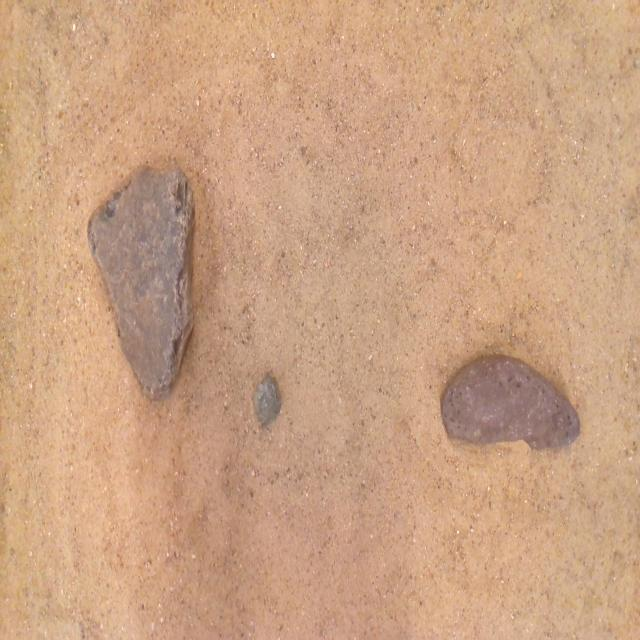rock: (88, 167, 194, 398), (441, 356, 580, 449), (254, 376, 281, 424)
